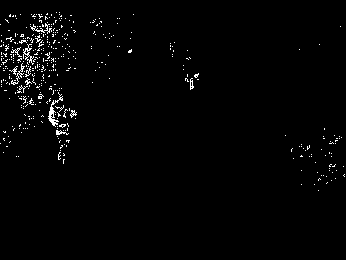person: (47, 93, 77, 166)
